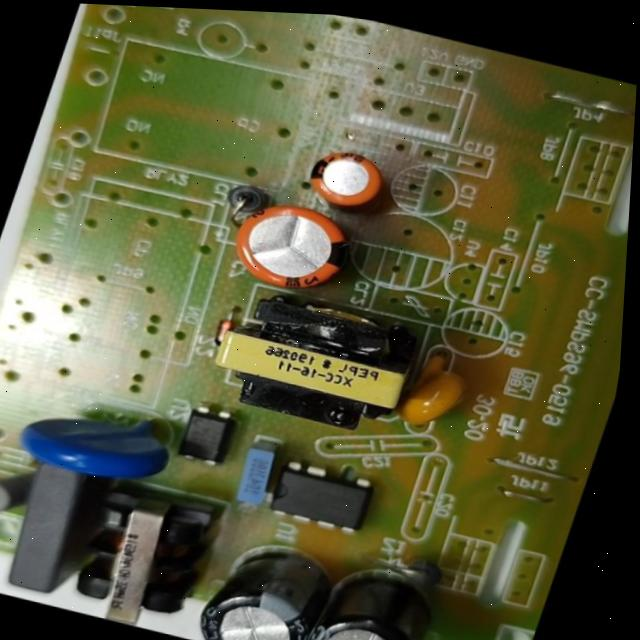Cap1: (212, 185, 367, 306)
Cap2: (292, 135, 402, 222)
Cap3: (184, 524, 353, 640)
Cap4: (294, 551, 456, 640)
MOSFET: (251, 447, 391, 545)
Mov: (0, 383, 192, 501)
Resistor: (0, 456, 44, 526)
Transformer: (188, 266, 446, 454), (54, 462, 238, 640)
